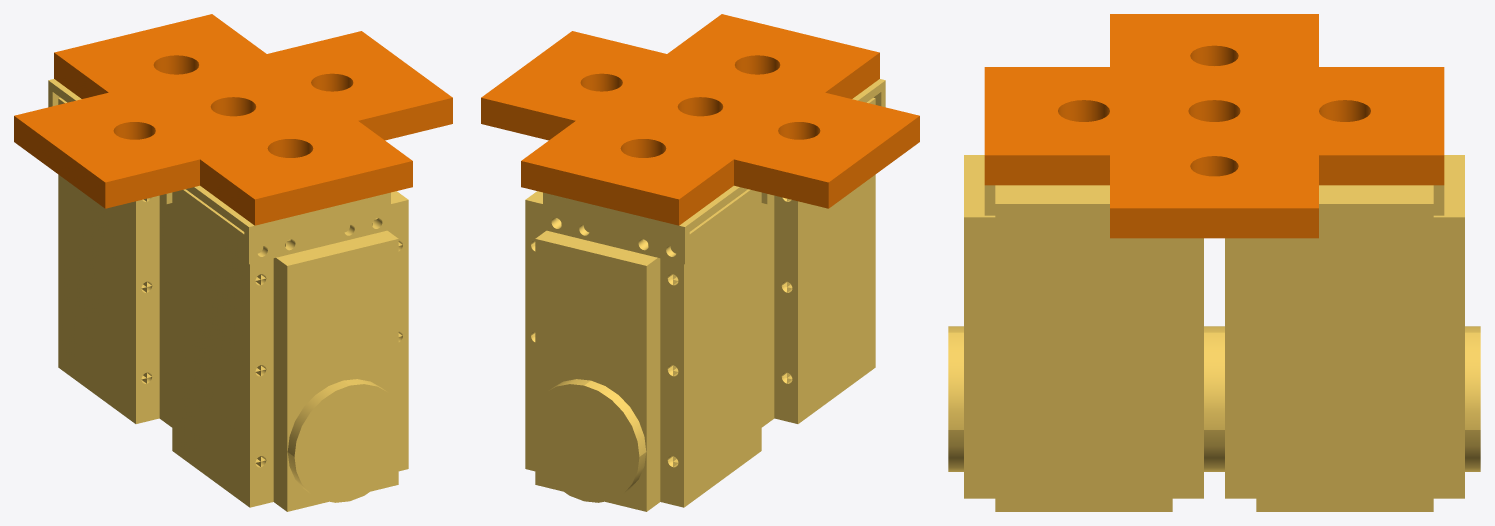
3 renders of one model, left to right at view 1: azimuth 30°, elevation 25°; view 2: azimuth 150°, elevation 25°; view 3: azimuth 270°, elevation 25°, orthographic. The views are drawn at different scales.
Parts seen in each view (by area): view 1: X (×6), group_3 (×2), group_2 (×2), group_1, FR05-S101 (×2); view 2: X (×6), group_3 (×2), group_2 (×2), group_1, FR05-S101 (×2); view 3: group_3 (×2), X (×6), group_2 (×2), group_1 (×2).
Part boxes in pixels (box(x1,y1,x2,y2)): X (×6): box(14, 14, 452, 225); group_3 (×2): box(58, 97, 408, 507); group_2 (×2): box(159, 195, 398, 511); group_1: box(287, 379, 404, 502); FR05-S101 (×2): box(48, 79, 390, 264); X (×6): box(481, 14, 919, 225); group_3 (×2): box(525, 97, 875, 507); group_2 (×2): box(535, 195, 774, 511); group_1: box(529, 379, 646, 502); FR05-S101 (×2): box(543, 79, 885, 264); group_3 (×2): box(995, 185, 1433, 511); X (×6): box(984, 14, 1444, 238); group_2 (×2): box(964, 155, 1464, 498); group_1 (×2): box(948, 326, 1480, 471).
Bounding box in the file's own units: 3.46 × 4.02 × 2.97.
